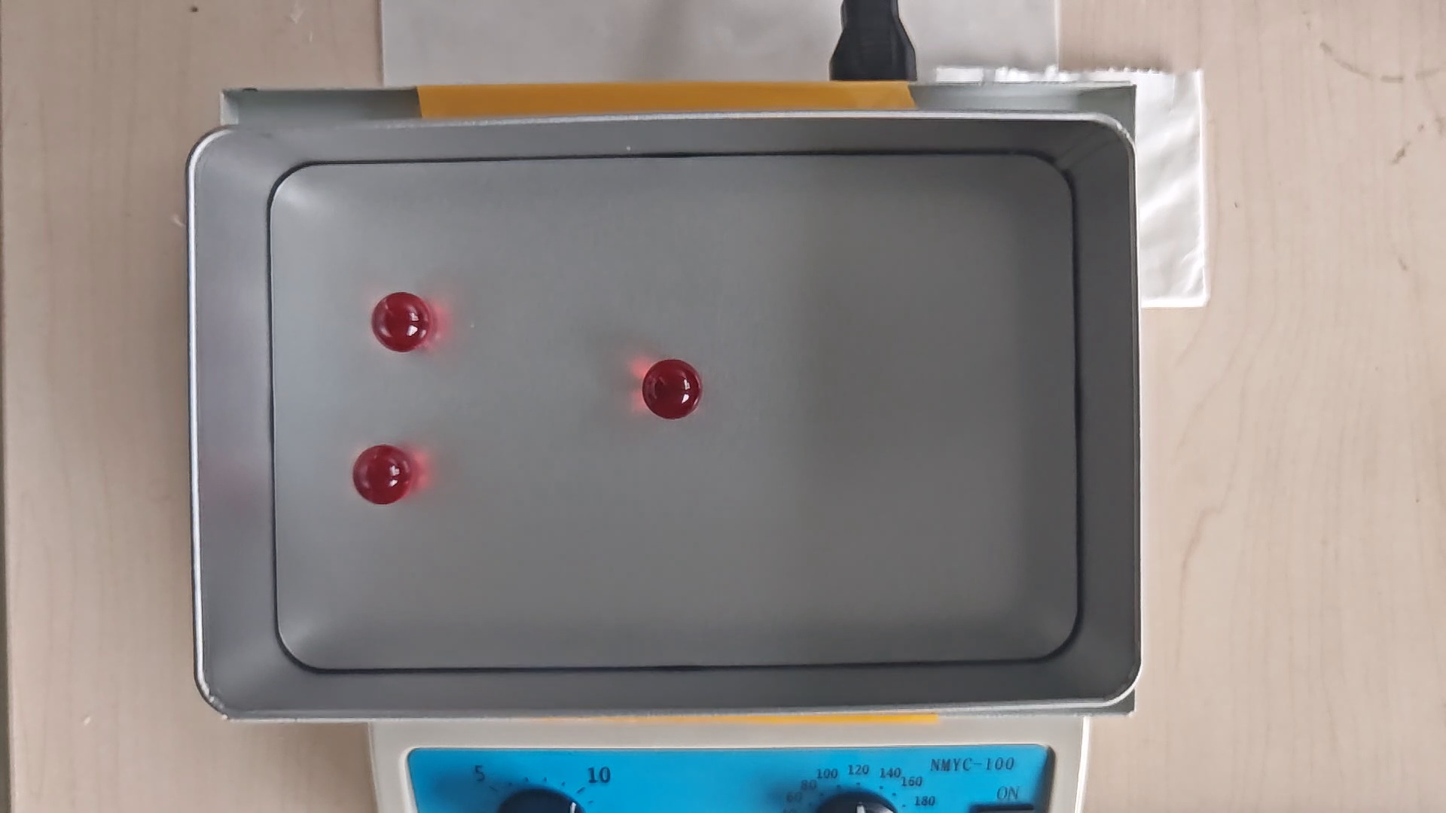ball: (643, 358, 703, 421), (370, 292, 430, 351), (354, 445, 413, 504)
container: (265, 160, 1082, 664)
